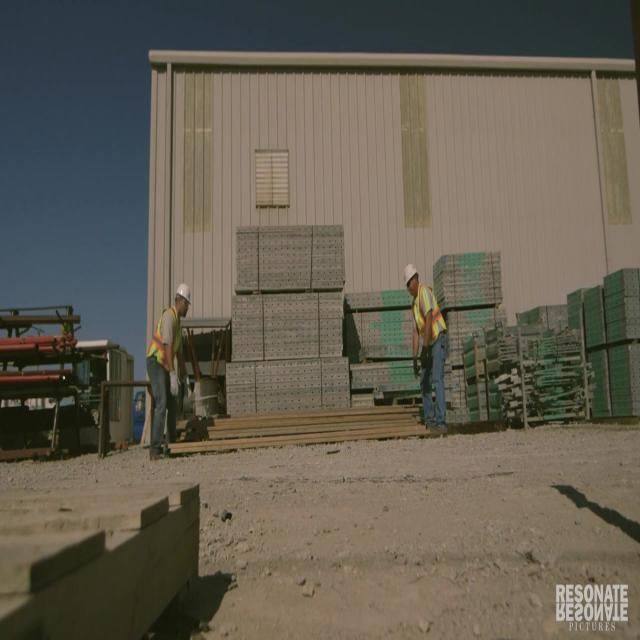Reflective-Jacket: (143, 305, 190, 379), (409, 282, 449, 354)
Safety-Helmet: (172, 274, 197, 312), (400, 257, 422, 291)
